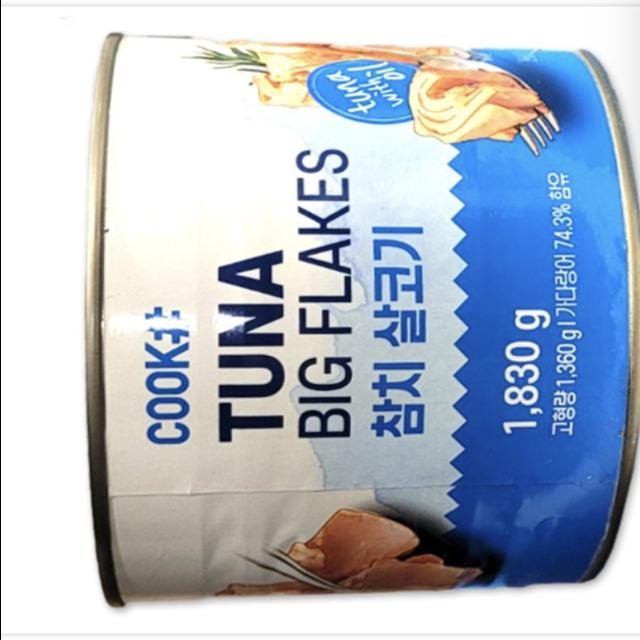can: (60, 22, 640, 616)
